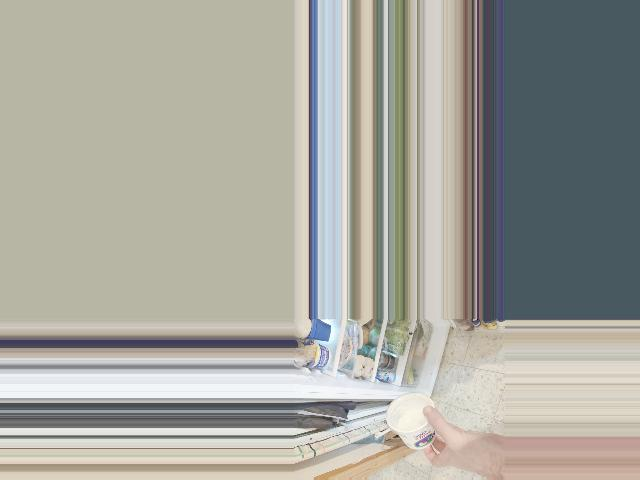cotage: (385, 392, 440, 452)
